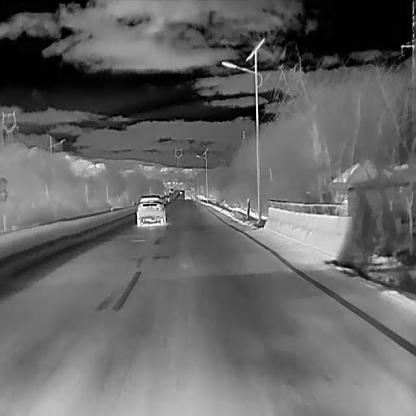bus: (183, 188, 192, 200), (168, 187, 173, 193)
car: (136, 192, 166, 228), (178, 189, 183, 194)
